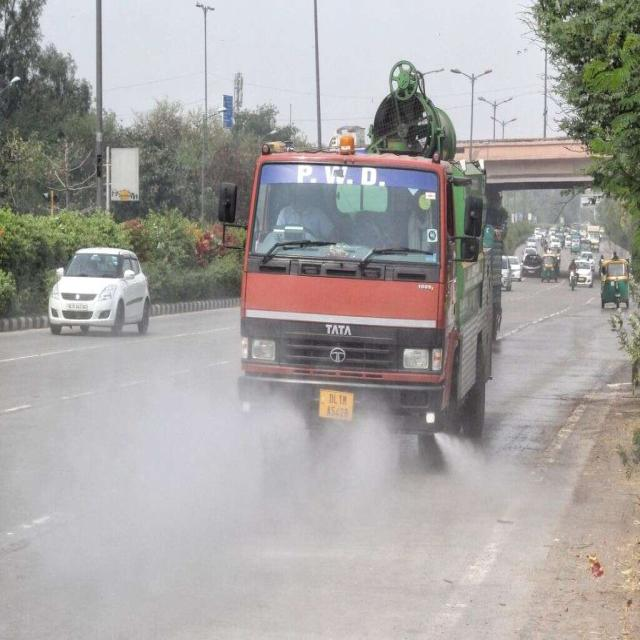autorickshaw: (601, 260, 629, 308), (541, 254, 559, 282)
car: (48, 247, 149, 334), (575, 258, 594, 287)
truck: (239, 61, 500, 445)
